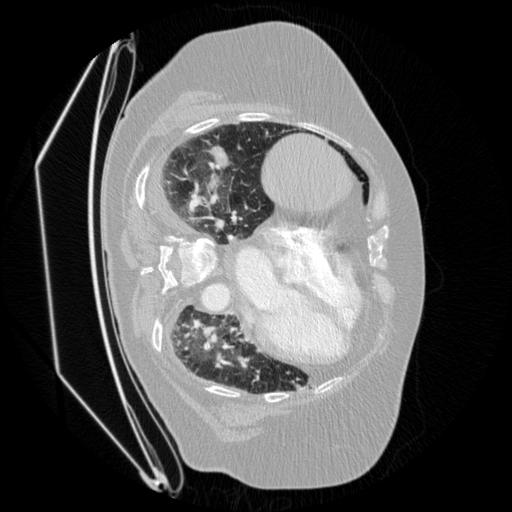nodule: (208, 143, 237, 172)
